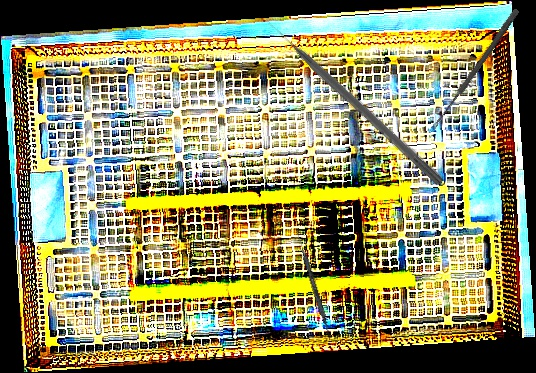Pusher: (265, 16, 446, 187)
Spatula Surgical: (292, 227, 335, 341)
Surgical Spoon: (430, 7, 520, 132)
